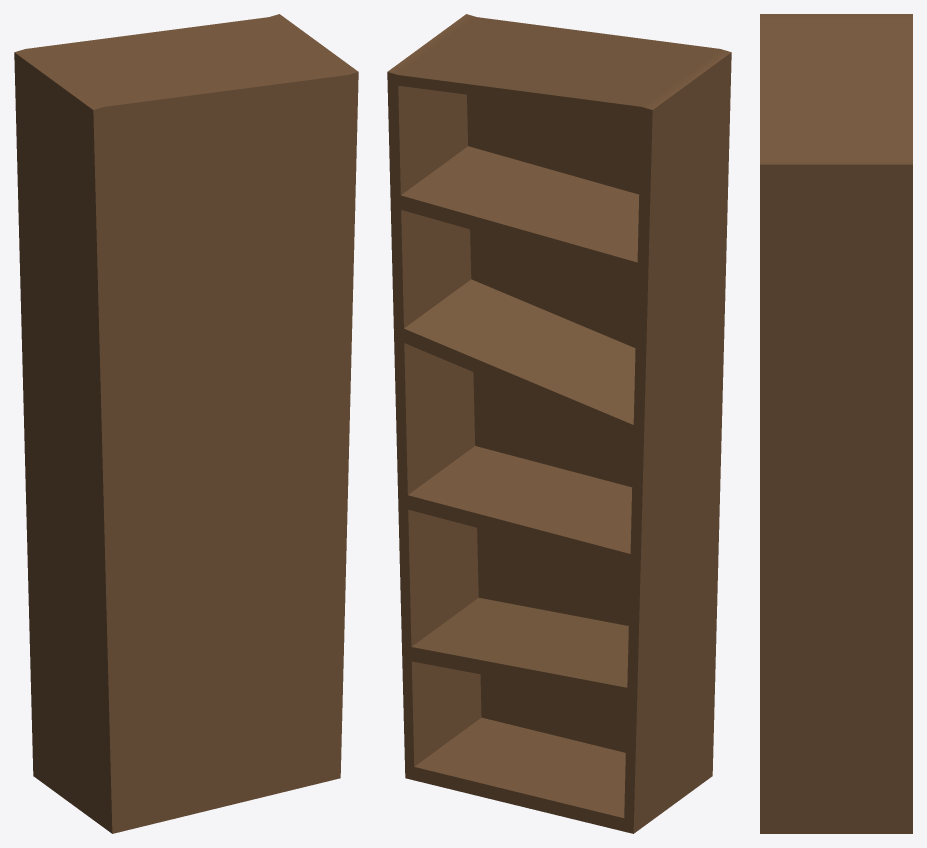
Rendered from SM_Bookshelf.fbx.
3 renders of one model, left to right at view 1: azimuth 30°, elevation 25°; view 2: azimuth 150°, elevation 25°; view 3: azimuth 270°, elevation 25°, orthographic. The views are drawn at different scales.
Visible parts, largest first — view 1: SM_Bookshelf; view 2: SM_Bookshelf; view 3: SM_Bookshelf.
Boxes of the visible parts, x1,y1,x2,y2 form: SM_Bookshelf: (14,14,358,833); SM_Bookshelf: (387,14,731,833); SM_Bookshelf: (760,14,912,833).
Size of the model in its own units: 201 by 527 by 104.
